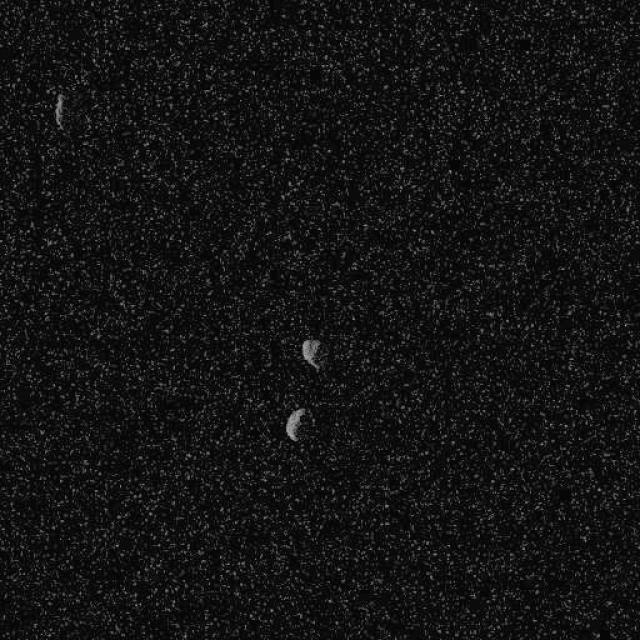D2: (284, 407, 311, 442), (300, 336, 322, 370), (52, 91, 66, 130)
